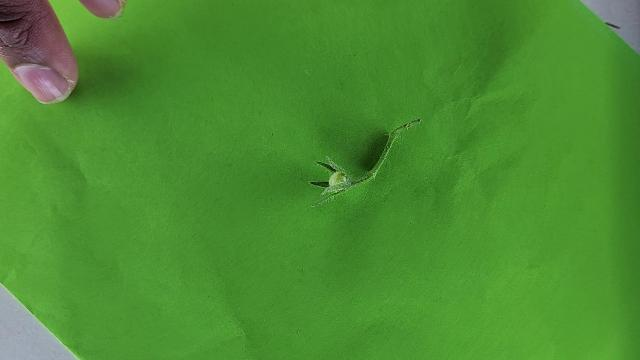Fruit Bud: (310, 155, 351, 189)
